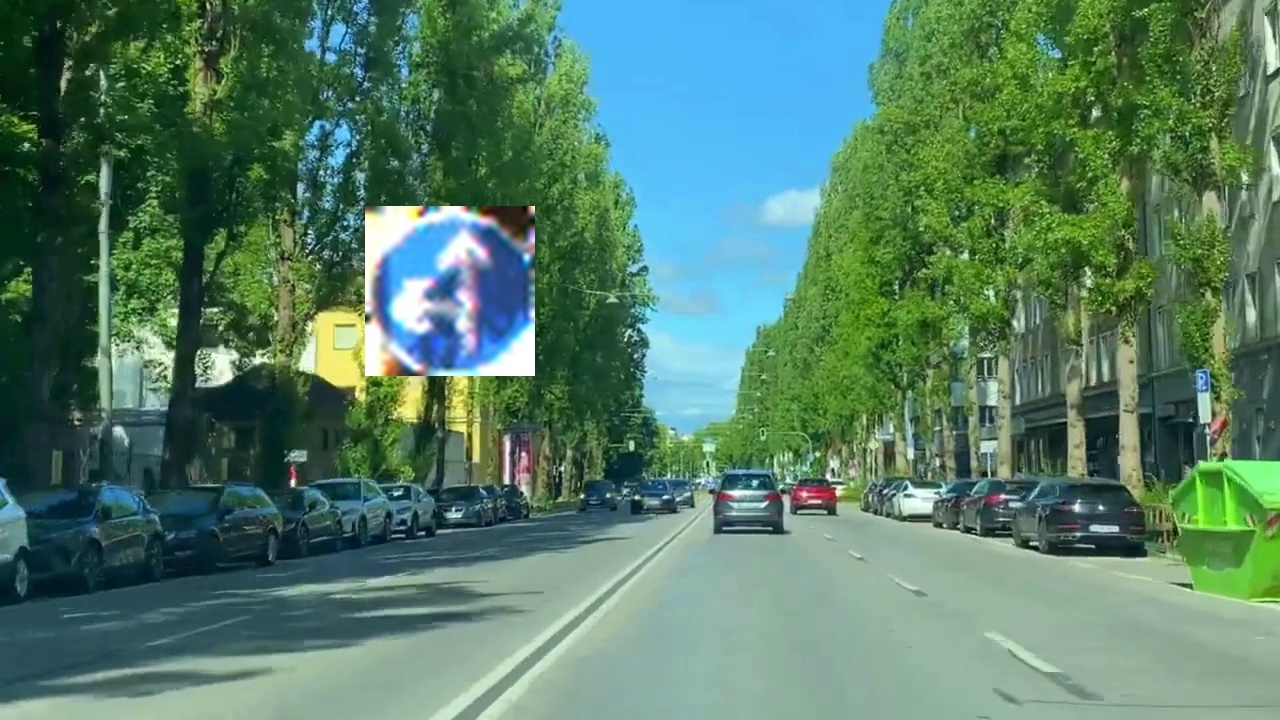Straight/left: (365, 206, 535, 376)
